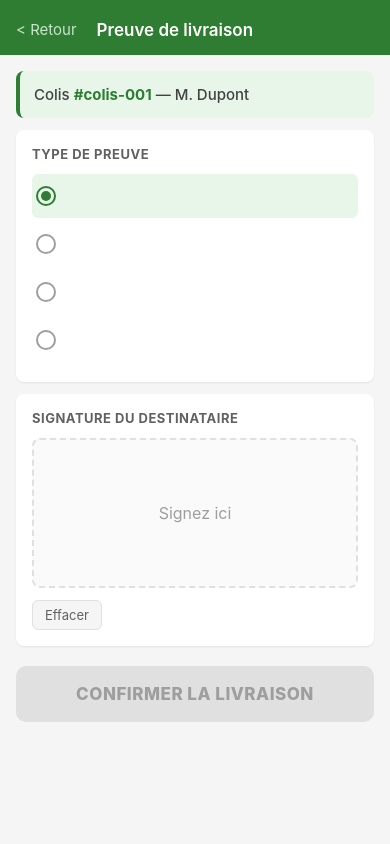
Test case: CapturePreuveScreen (US-008 + US-009) › US-009 SC2 : affiche le champ nom du tiers après sélection TIERS_IDENTIFIE
Click the radio button with test id "type-preuve-TIERS_IDENTIFIE" at (46, 292), box left=36, top=282, right=56, bottom=302
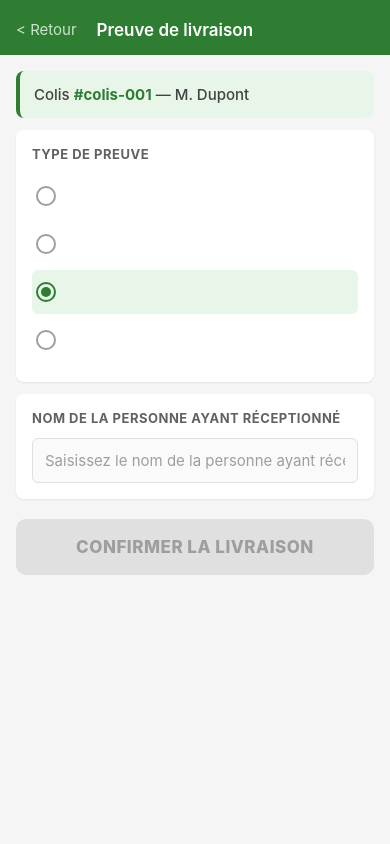
Expected: the field with test id "champ-nom-tiers" is shown, left=32, top=438, right=358, bottom=483
